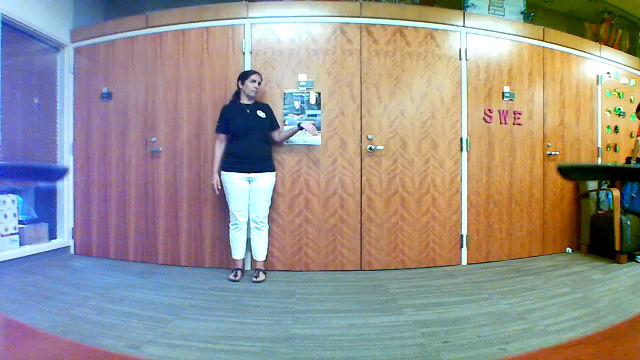land: (290, 115, 325, 139)
